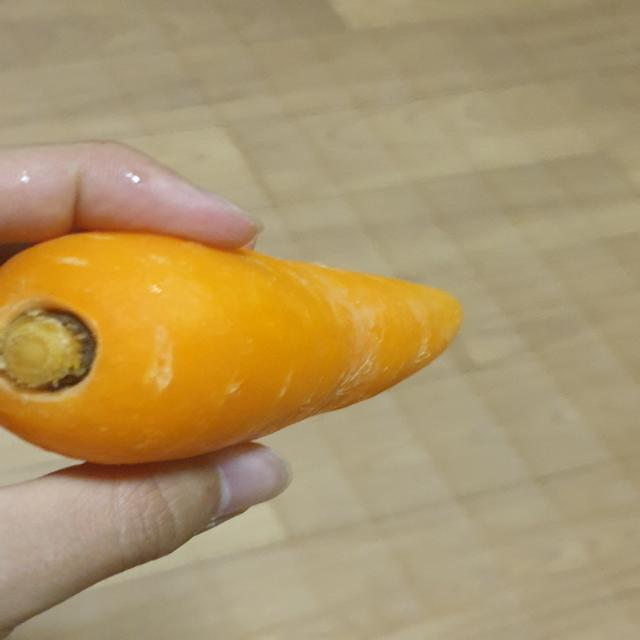carrot: (0, 220, 492, 475)
